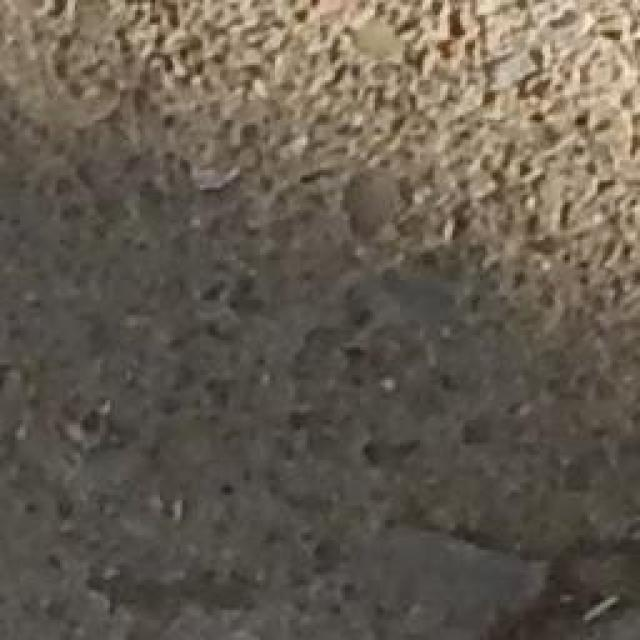concrete-crack: (388, 518, 640, 640)
